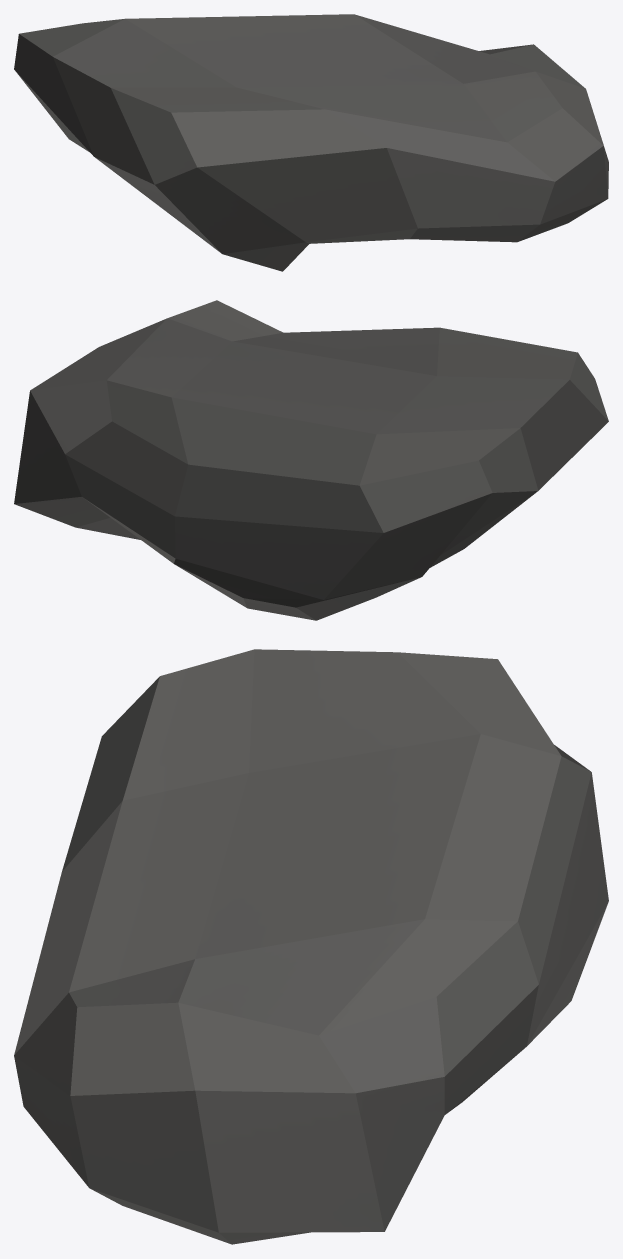
File: Rock_1.fbx
The picture shows the model from 3 angles, top to bottom: view 1: azimuth 30°, elevation 25°; view 2: azimuth 150°, elevation 25°; view 3: azimuth 270°, elevation 25°; orthographic projection. The views are drawn at different scales.
Parts seen in each view (by area): view 1: Rock_1; view 2: Rock_1; view 3: Rock_1.
Boxes of the visible parts, x1,y1,x2,y2 form: Rock_1: (14, 14, 608, 271); Rock_1: (14, 300, 608, 620); Rock_1: (14, 649, 608, 1244).
Size of the model in its own units: 259 by 111 by 193.
1 material, 1 textured.
